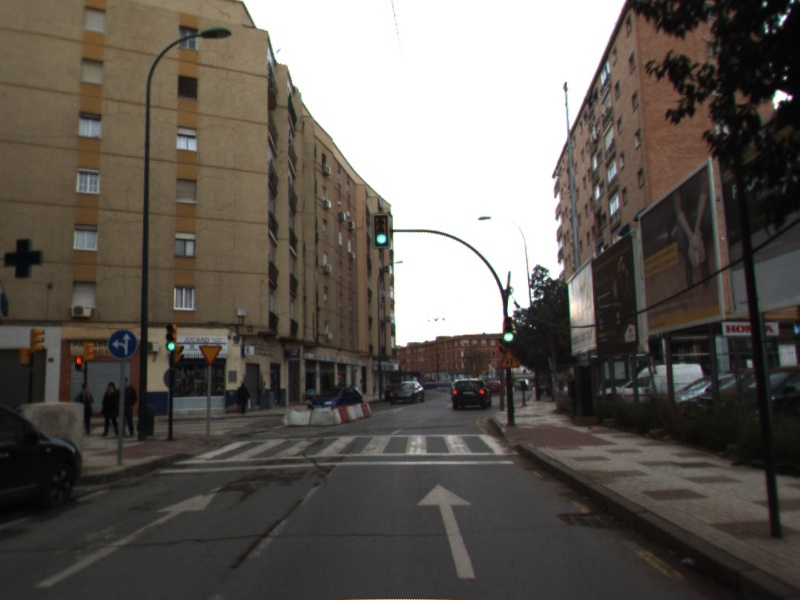STRAIGHT: (33, 481, 228, 591), (413, 480, 481, 582)
